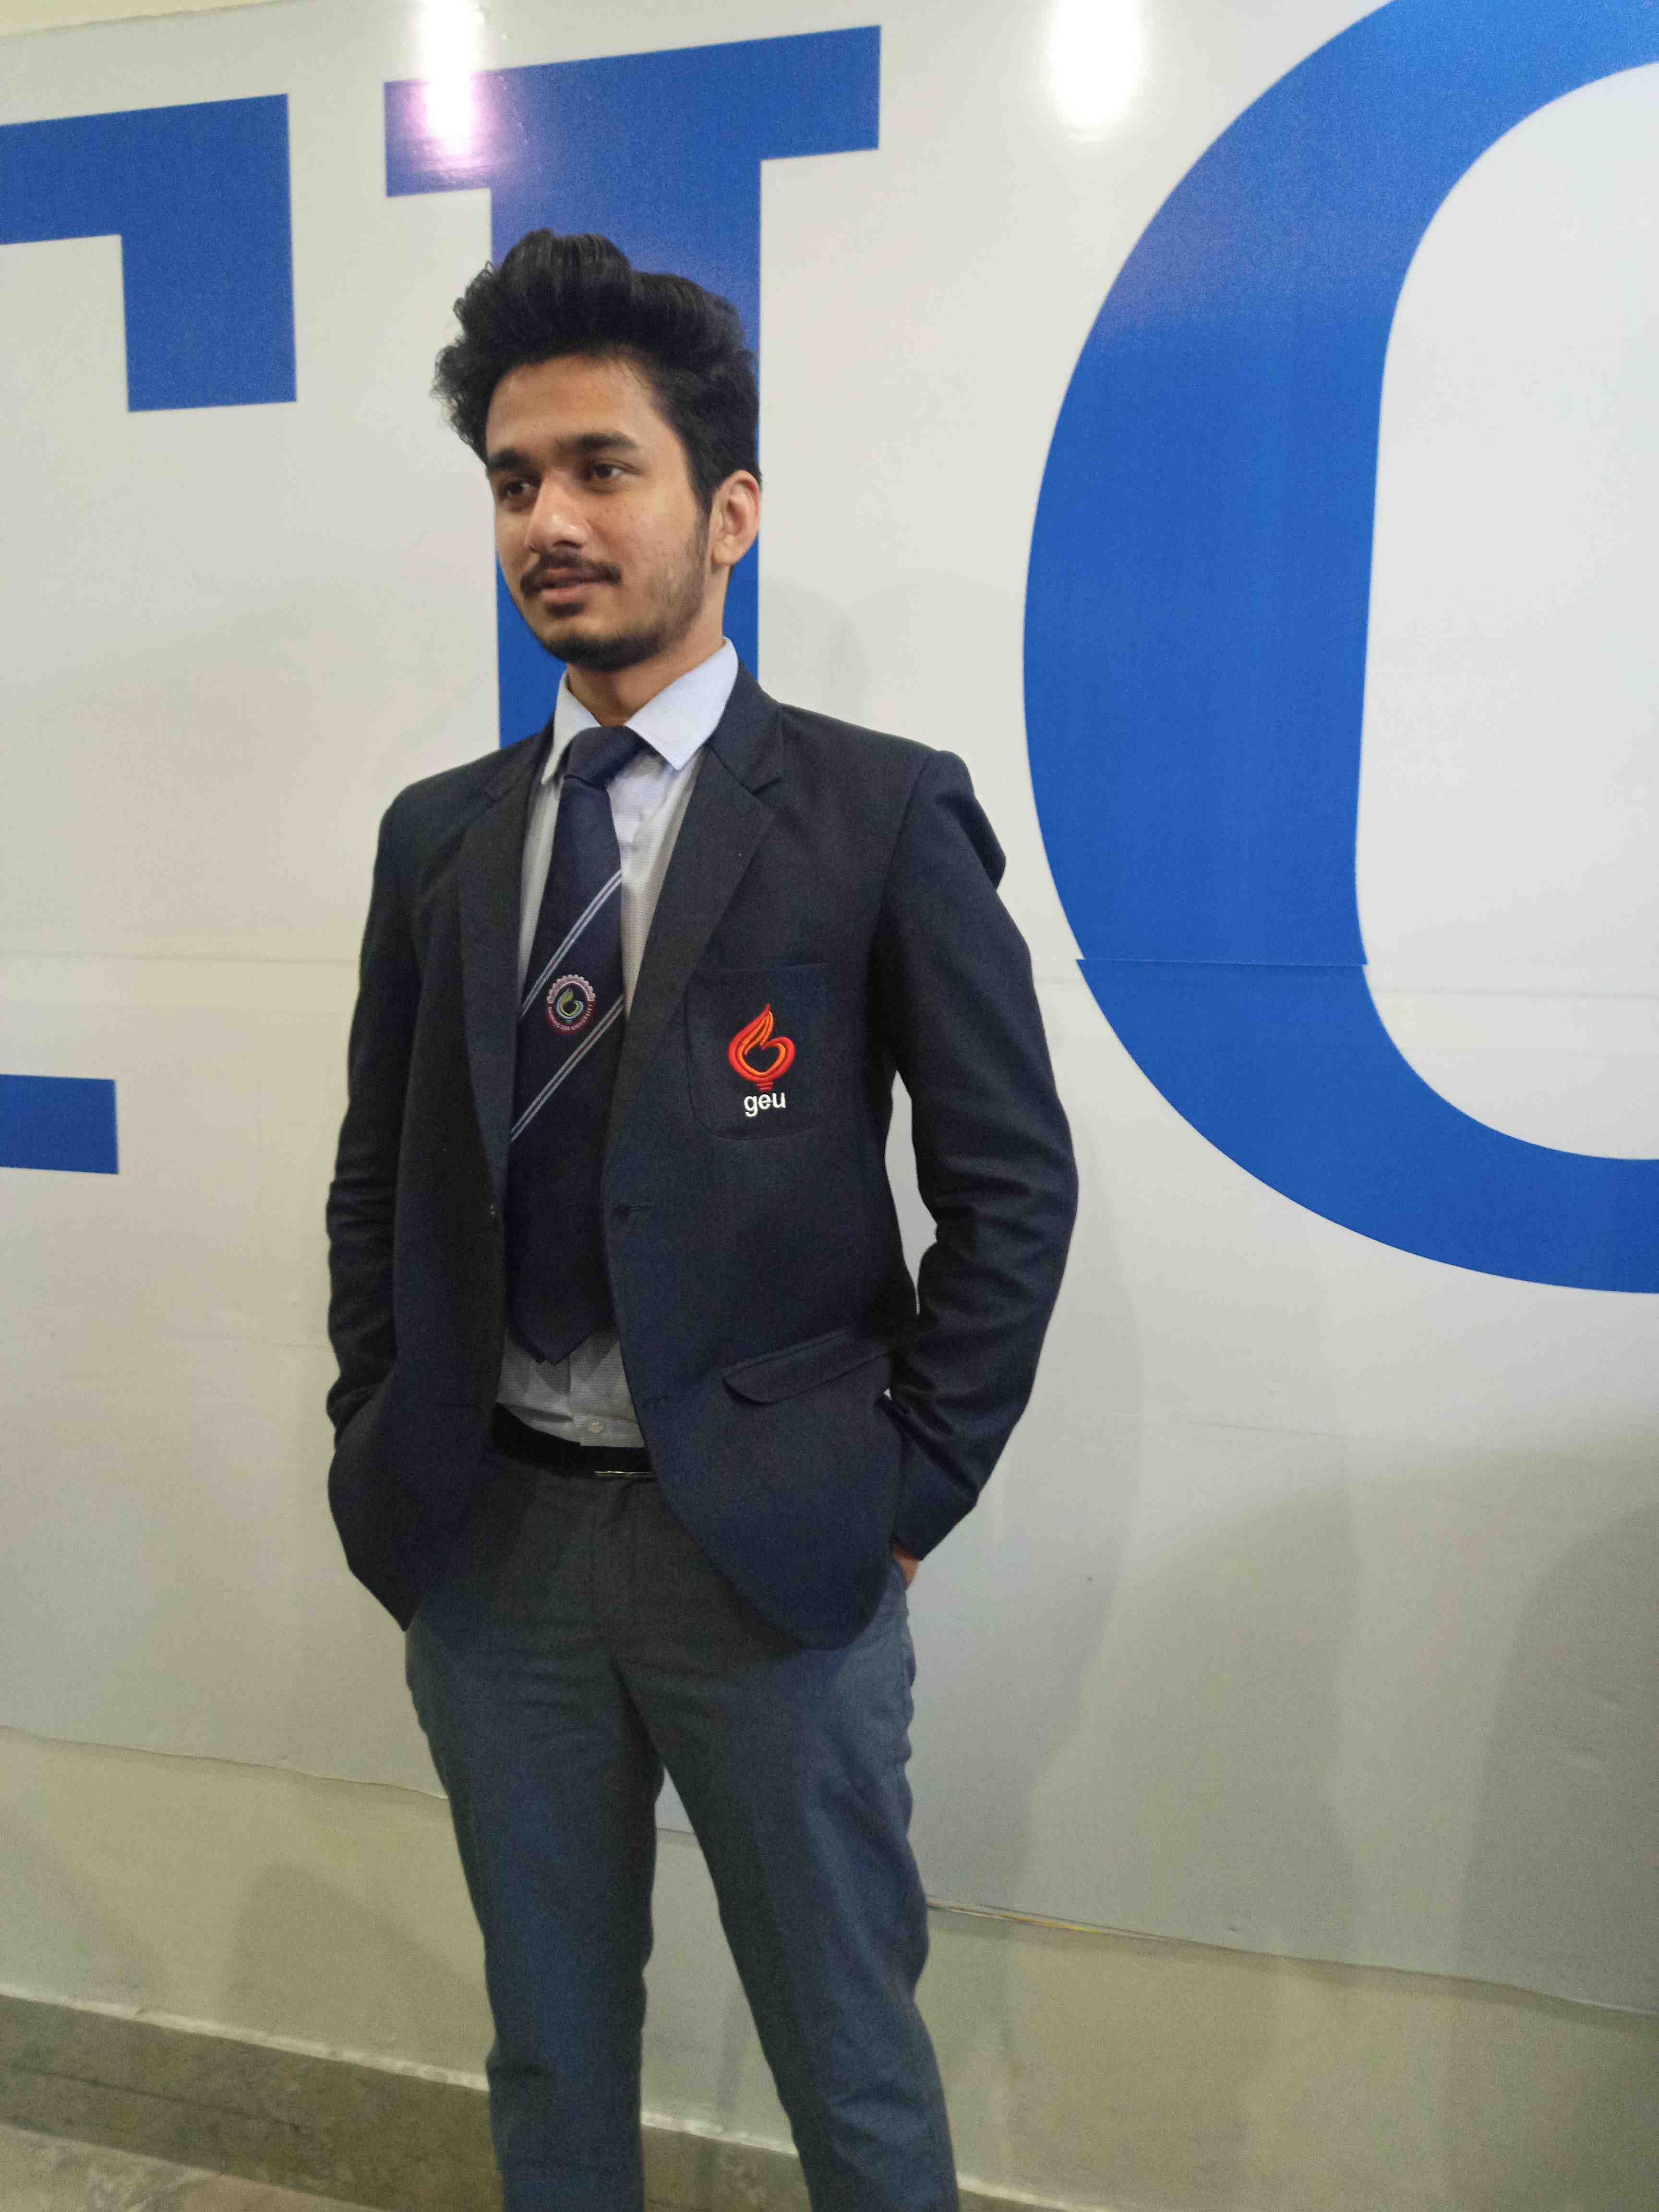blazer: (308, 733, 1039, 1653)
pant: (411, 1458, 950, 2203)
tie: (484, 735, 669, 1345)
